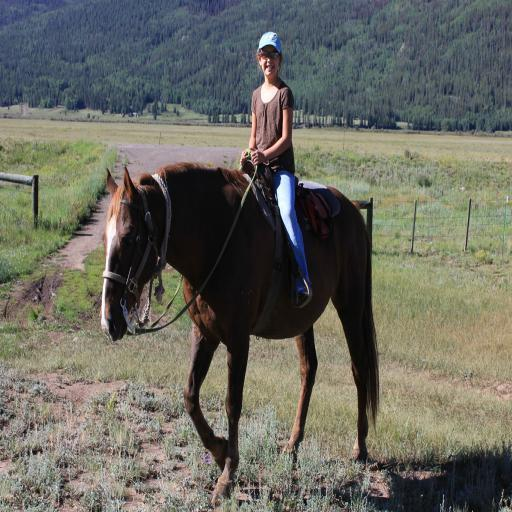horse: (100, 163, 382, 510)
